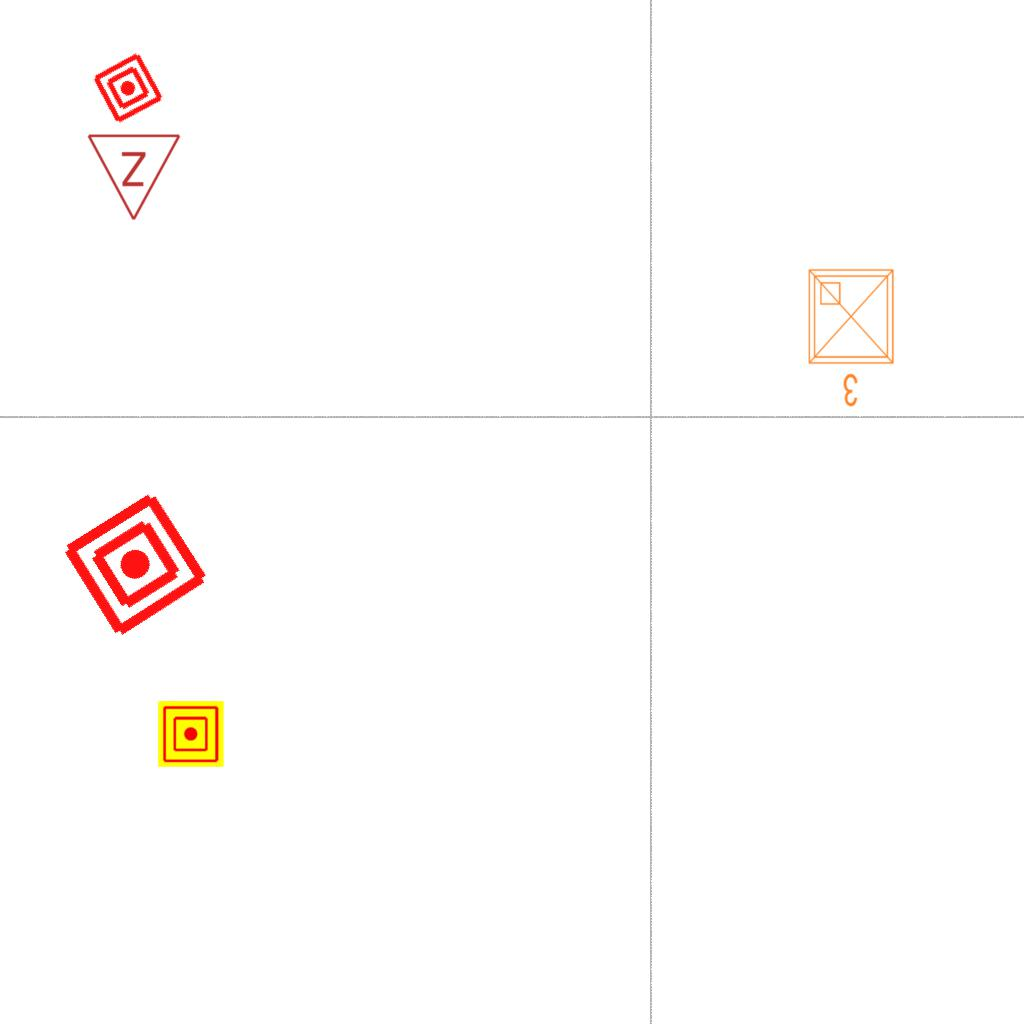Einbaudownlights_LED_Konferenzraeume: (801, 262, 905, 412)
NAM-Nichtautomatischer_Melder: (57, 486, 214, 643), (90, 50, 166, 126), (158, 701, 224, 767)
Zimmersignalleuchte: (86, 127, 184, 227)
